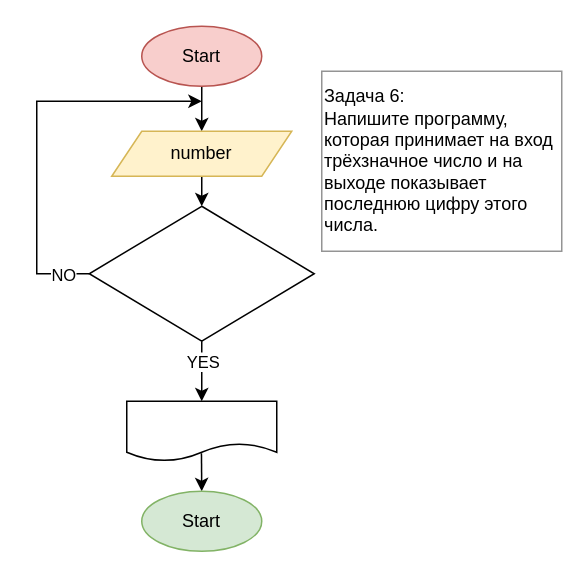
This 588x578 diagram has some shape labels left out. Each missing label, with the box of its shape:
number % 10: (125, 400, 277, 461)
number - целое трехзначное число?: (88, 205, 314, 341)
